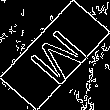M_SE: (19, 21, 91, 89)
